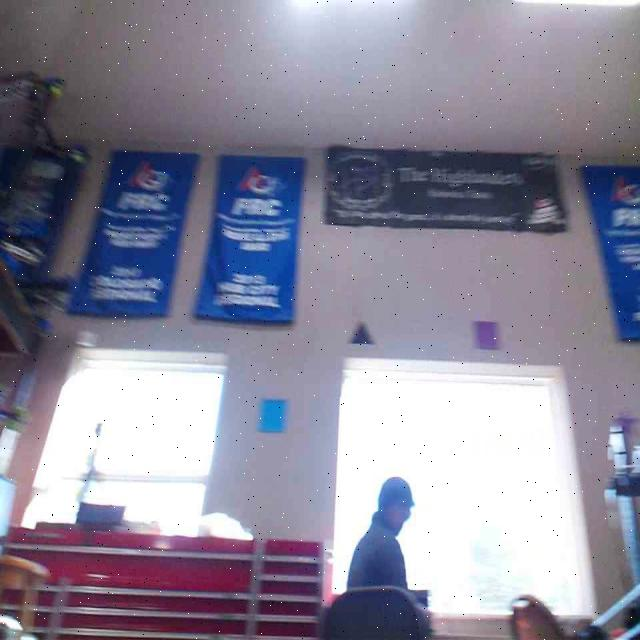square_blue: (256, 397, 287, 431)
square_purple: (473, 319, 500, 349)
triangle_black: (349, 320, 374, 343)
